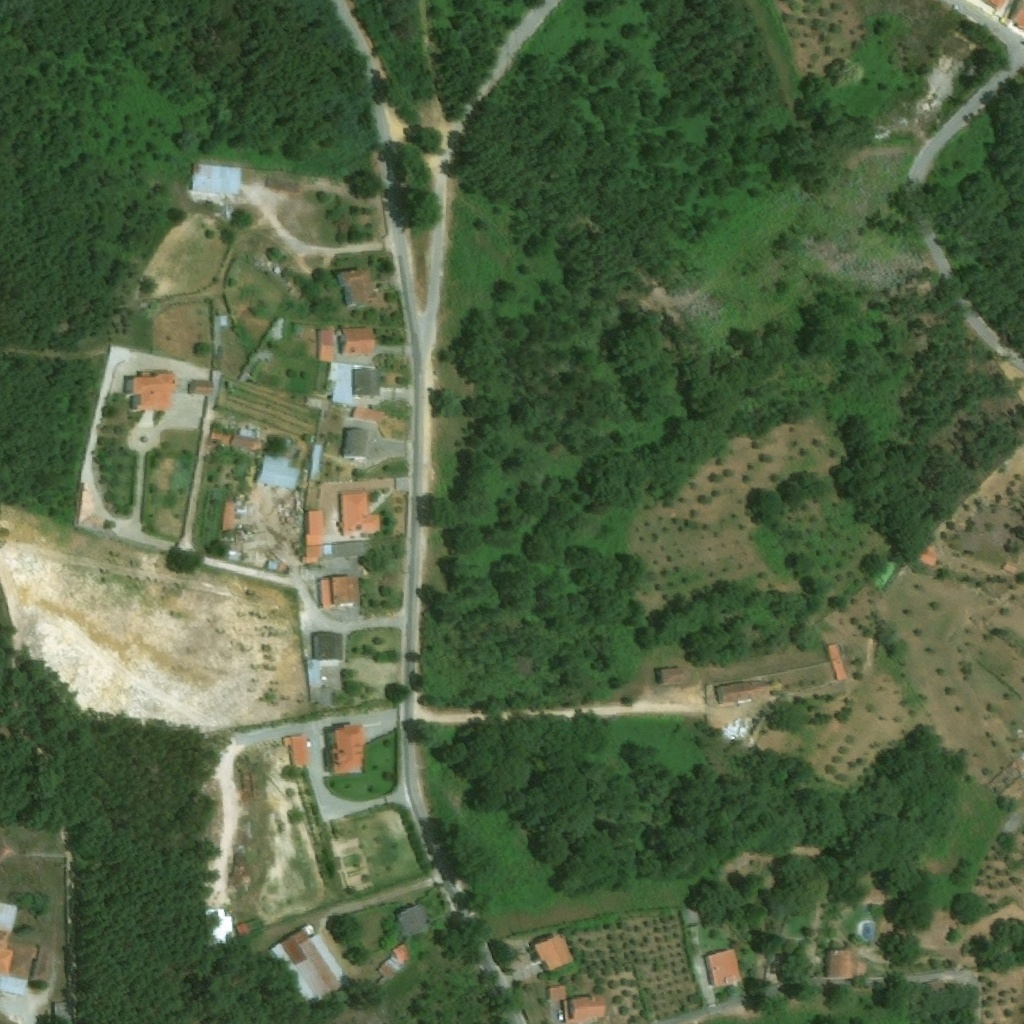0 no-damage: (0, 902, 39, 997), (340, 494, 381, 538), (330, 723, 365, 774), (374, 943, 416, 983), (132, 373, 176, 410), (255, 453, 296, 491), (191, 164, 242, 194), (280, 924, 316, 966), (339, 270, 379, 307), (534, 935, 574, 972), (705, 951, 740, 988), (329, 363, 358, 405), (561, 996, 605, 1023), (718, 680, 768, 703), (397, 904, 432, 935), (301, 512, 321, 565), (206, 909, 233, 944), (281, 732, 309, 765), (311, 634, 343, 662), (341, 328, 374, 354), (826, 950, 853, 979), (342, 430, 368, 460), (827, 644, 848, 680), (353, 369, 380, 396), (329, 575, 351, 606), (331, 543, 370, 559), (268, 943, 289, 967), (914, 547, 938, 568), (219, 502, 236, 530), (236, 427, 271, 440), (661, 668, 686, 685), (318, 579, 332, 608), (208, 433, 232, 448), (304, 397, 324, 409), (234, 923, 249, 938), (318, 345, 332, 361), (548, 986, 564, 1000), (194, 381, 213, 392), (318, 331, 332, 345), (226, 552, 241, 563), (265, 562, 277, 572), (277, 565, 286, 574), (273, 267, 281, 275)
4 un-classified: (1009, 0, 1023, 28), (0, 835, 14, 862), (987, 0, 1009, 10)
